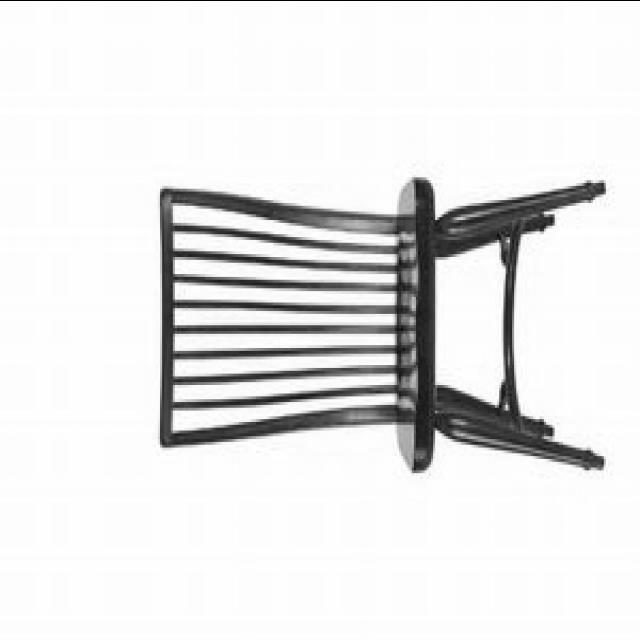chair: (158, 172, 606, 476)
